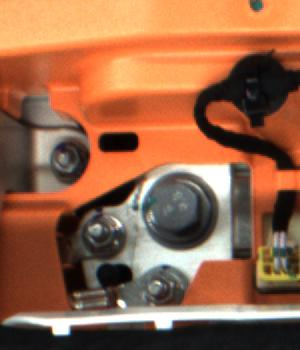nut_b: (135, 163, 218, 251)
